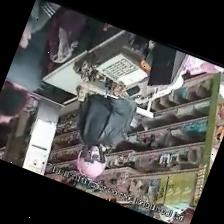person: (76, 93, 135, 176), (0, 20, 50, 115), (18, 0, 59, 49), (0, 114, 13, 148)
